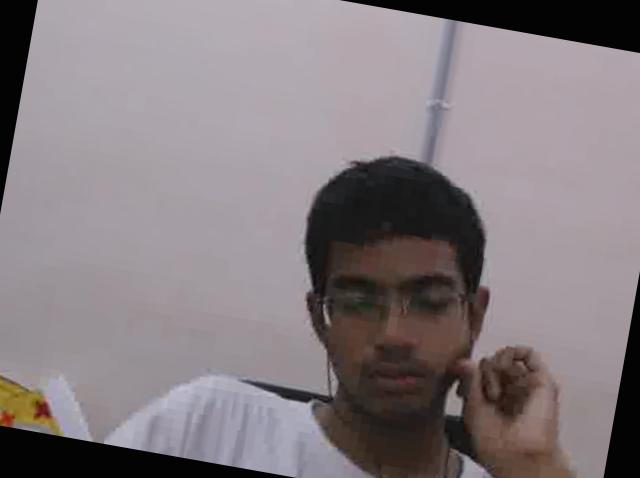bingung: (292, 215, 481, 432)
